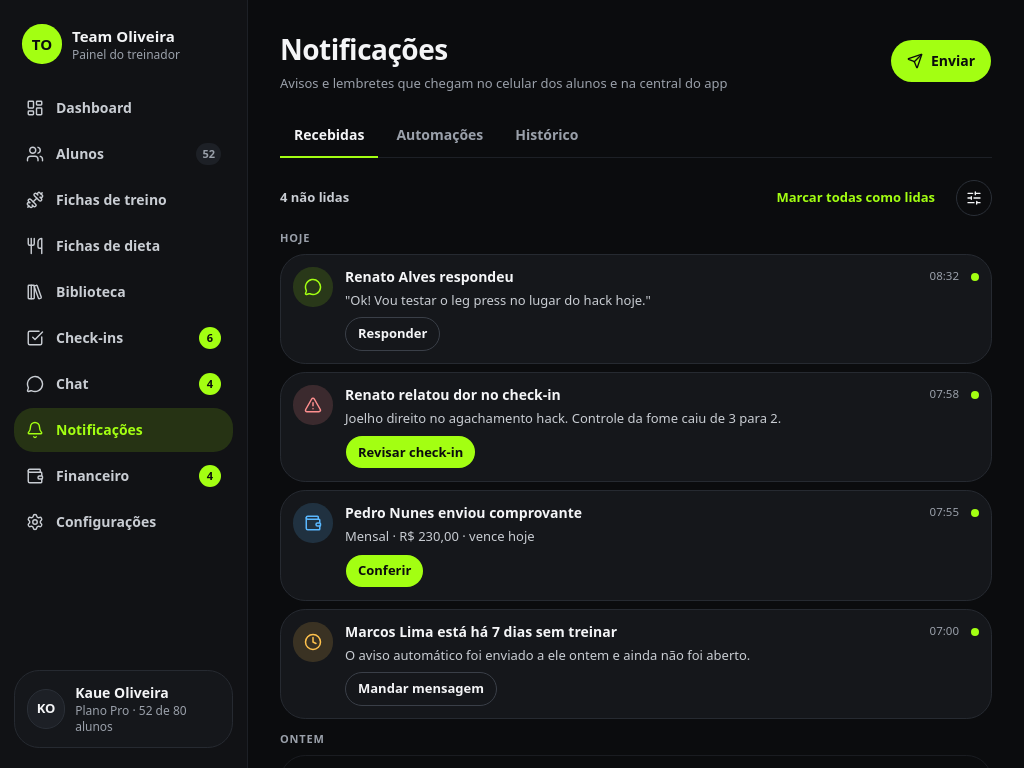
Test: Notificações (celular) › o que eu recebo e automações
Expected: the text "4 não lidas" is shown, x1=280 y1=188 x2=349 y2=206
Click the button named "O que eu recebo" at x=974, y=198, box x1=956 y1=180 x2=992 y2=216
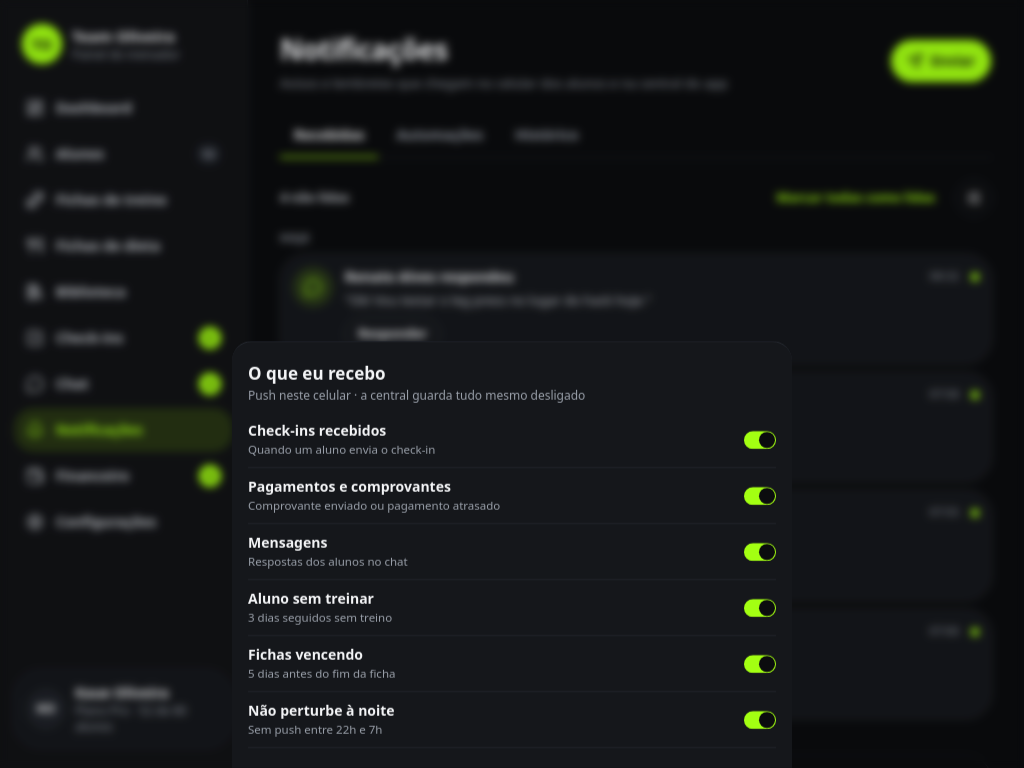
Click the switch named "Mensagens" in the row of "Respostas dos alunos no chat" at x=760, y=552, box x1=744 y1=542 x2=776 y2=561
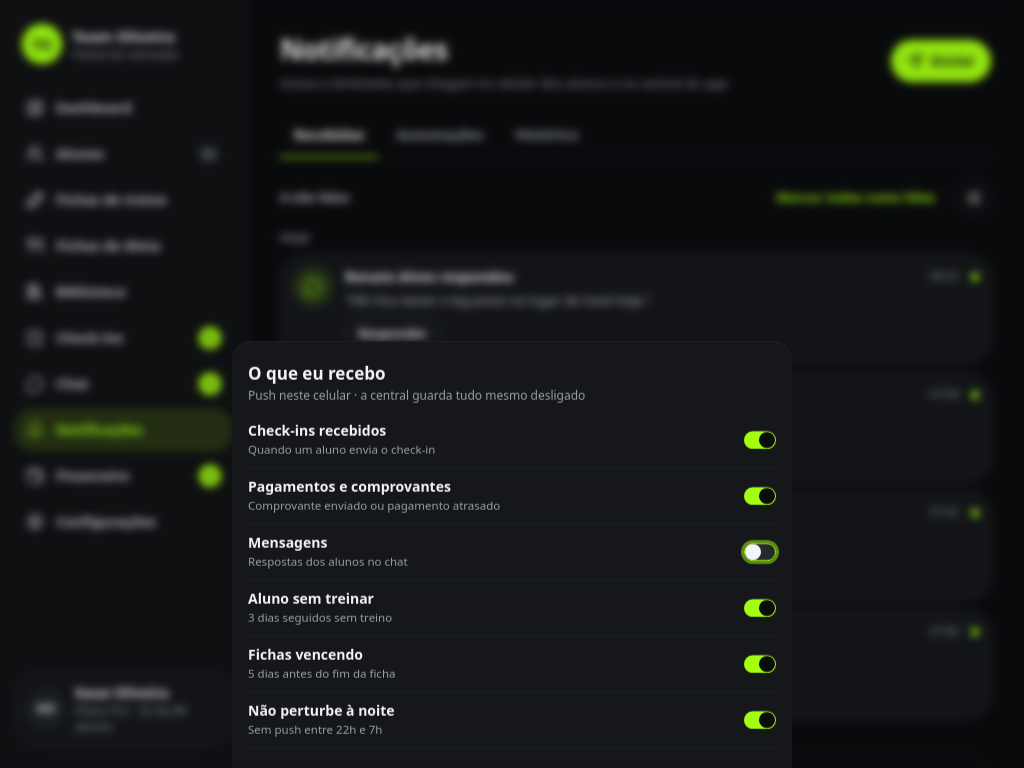
Press Escape
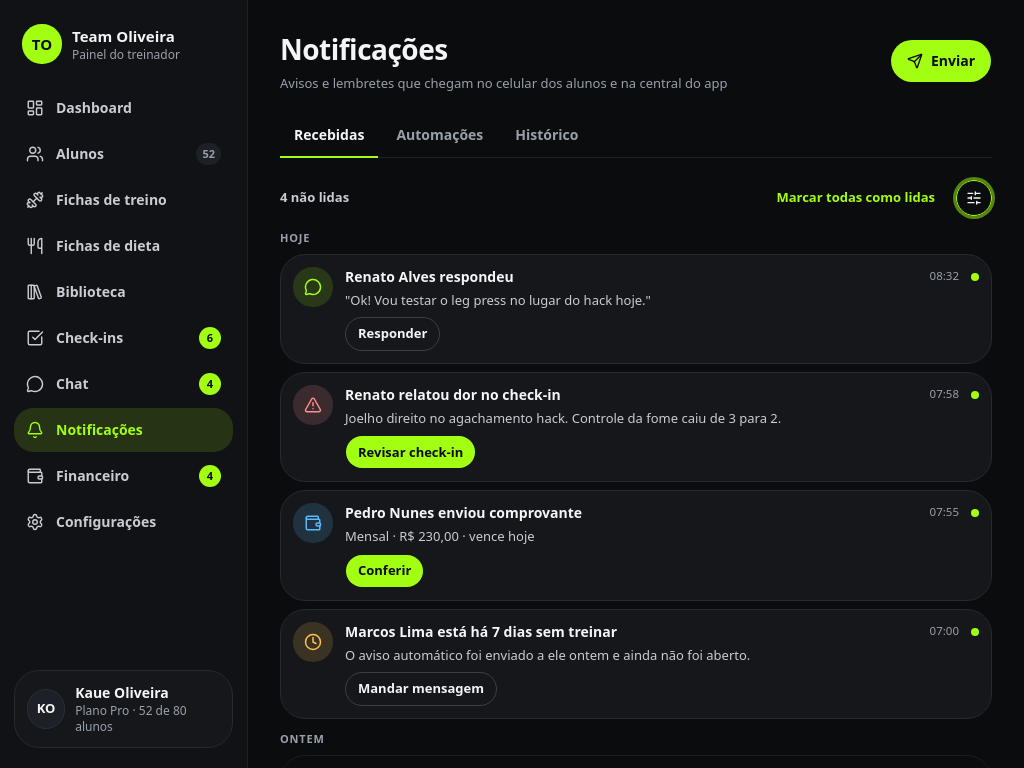
Click the tab "Automações" at x=440, y=136, box x1=382 y1=114 x2=497 y2=158
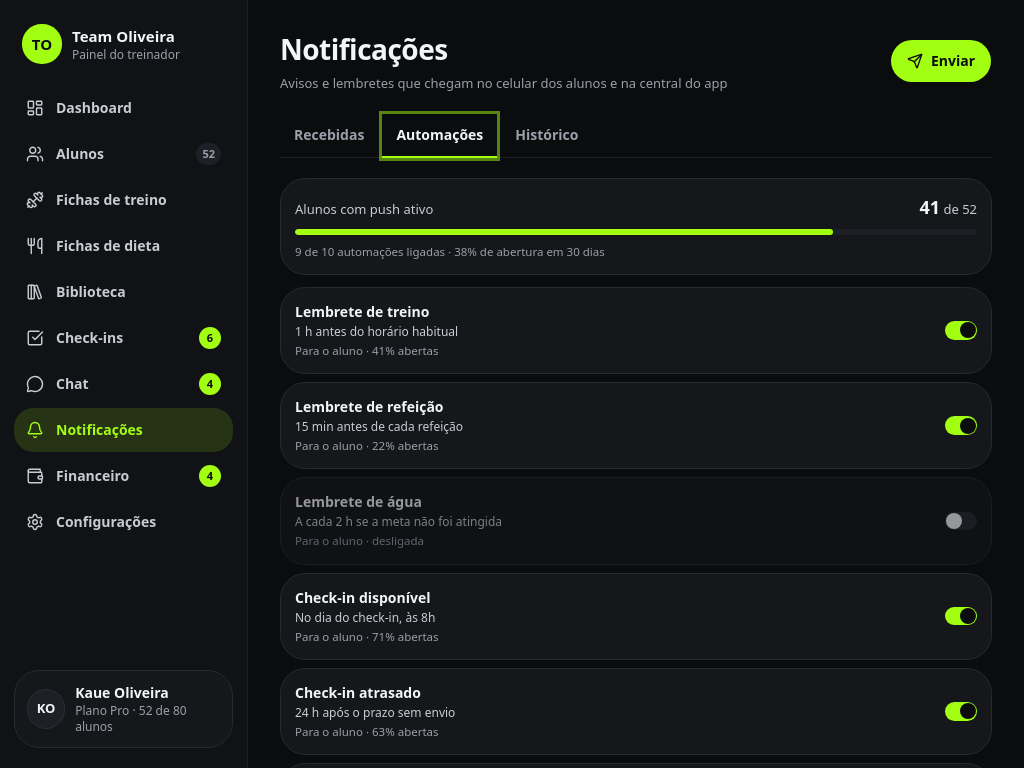
Expected: the switch named "Lembrete de água" is not checked
Click the switch named "Lembrete de água" at x=961, y=521, box x1=945 y1=512 x2=977 y2=530
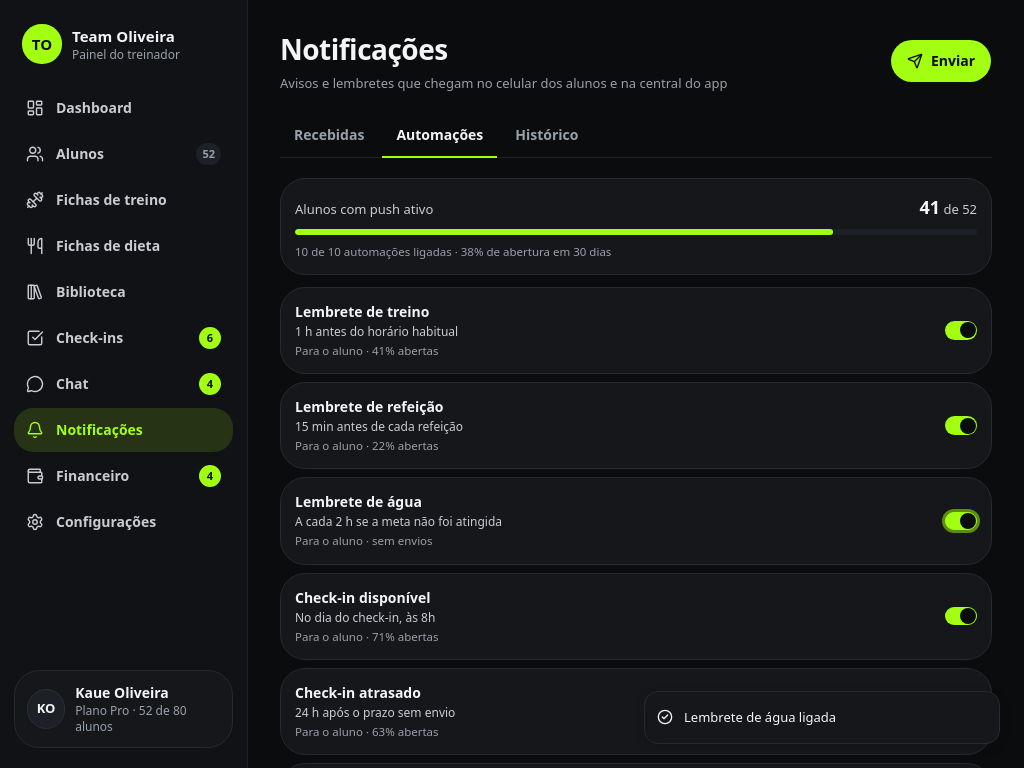
Expected: the text "Lembrete de água ligada" is shown, x1=684 y1=708 x2=836 y2=727
Expected: the text "10 de 10 automações ligadas · 38% de abertura em 30 dias" is shown, x1=295 y1=244 x2=611 y2=258
